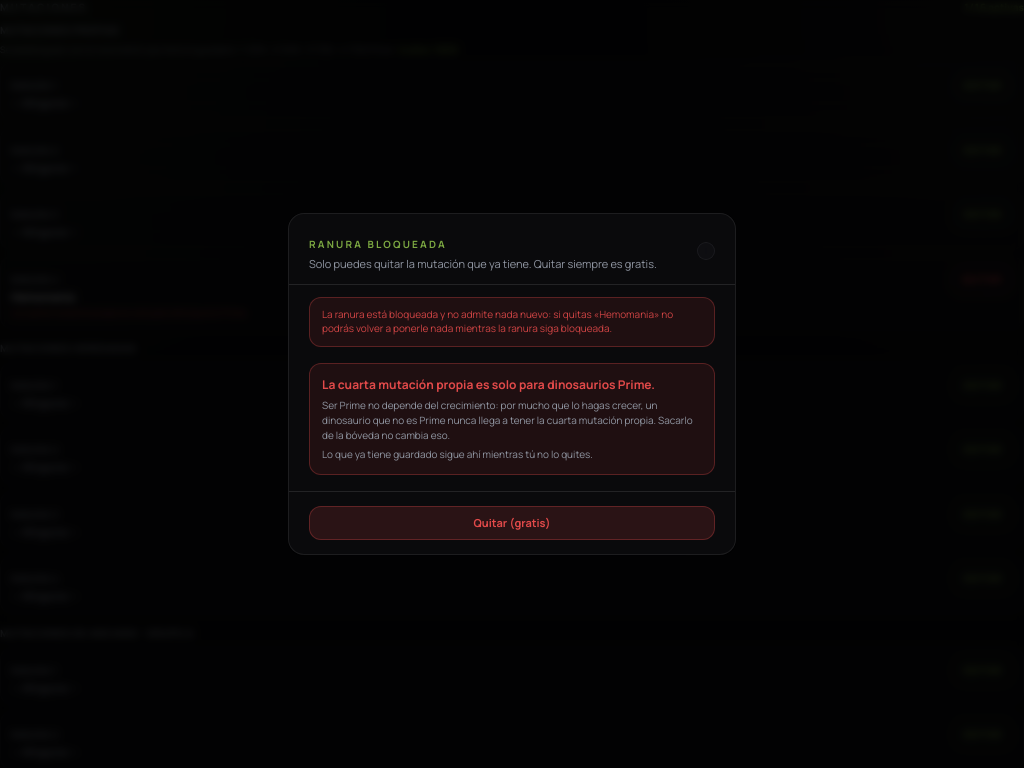
Test case: the confirmation never outlives the open it was armed in › closing and reopening the SAME slot comes back unarmed
Earlier steps of the test are not shown.
What coordinates should you click on to do the following:
click the button with test id "mutation-picker-clear"
I would click on:
 (512, 523)
Its box is [309,506,715,540].
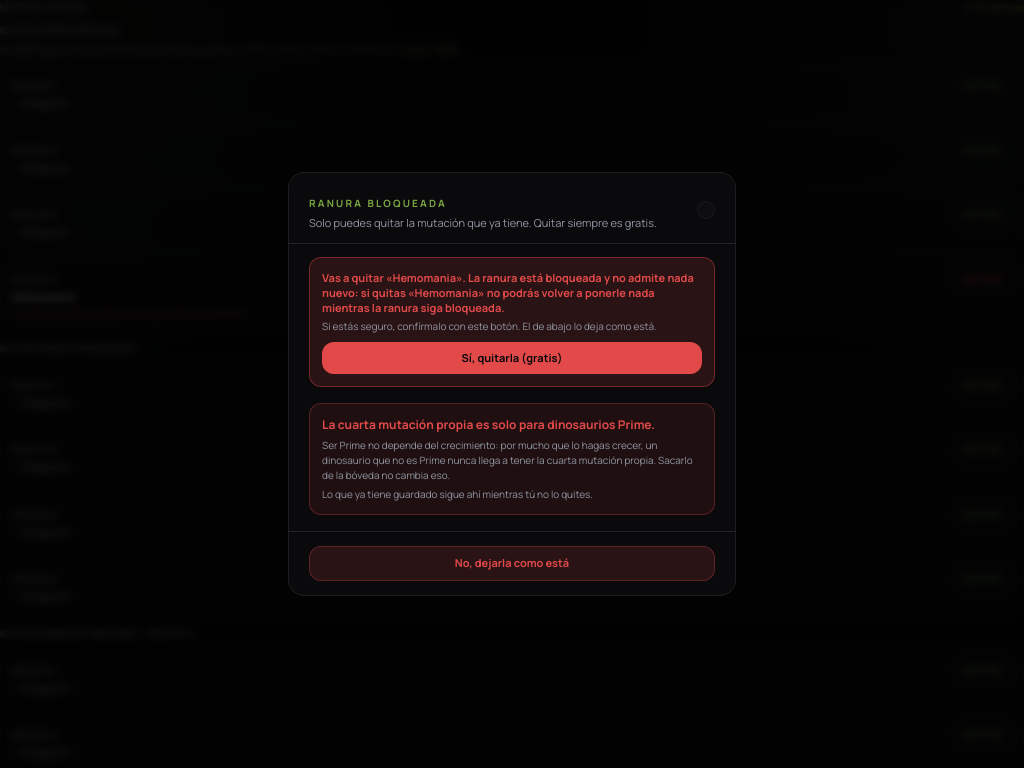
Expected: the element with test id "mutation-clear-warning" is shown, [309,257,715,388]
